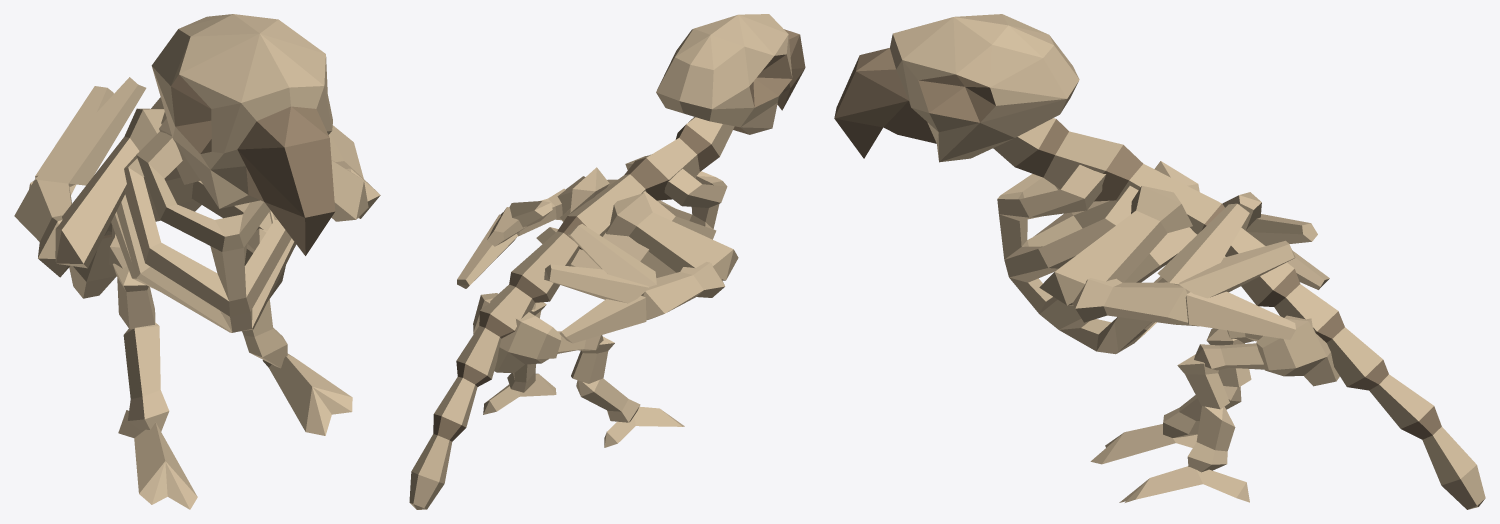
File: SM_Prop_Pet_Parrot_02.fbx
3 views of the same model, side by side, from view 1: azimuth 30°, elevation 25°; view 2: azimuth 150°, elevation 25°; view 3: azimuth 270°, elevation 25° (orthographic). The views are drawn at different scales.
Parts seen in each view (by area): view 1: SM_Prop_Pet_Parrot_02; view 2: SM_Prop_Pet_Parrot_02; view 3: SM_Prop_Pet_Parrot_02.
Part boxes in pixels (x1,y1,x2,y2): SM_Prop_Pet_Parrot_02: (14,14,380,509); SM_Prop_Pet_Parrot_02: (409,14,805,509); SM_Prop_Pet_Parrot_02: (834,14,1485,509).
Bounding box in the file's own units: 15.85 × 25.05 × 33.69.
